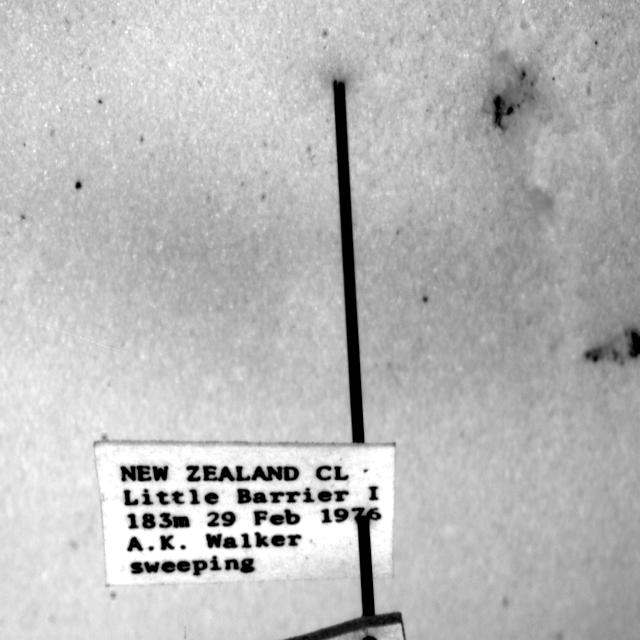typed_label: (95, 441, 395, 585)
